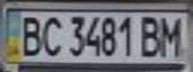1: (115, 14, 139, 57)
3: (63, 14, 84, 57)
4: (81, 14, 103, 56)
8: (100, 14, 121, 57)
B: (15, 12, 45, 57), (136, 14, 166, 57)
C: (39, 14, 66, 57)
M: (154, 14, 190, 57)
